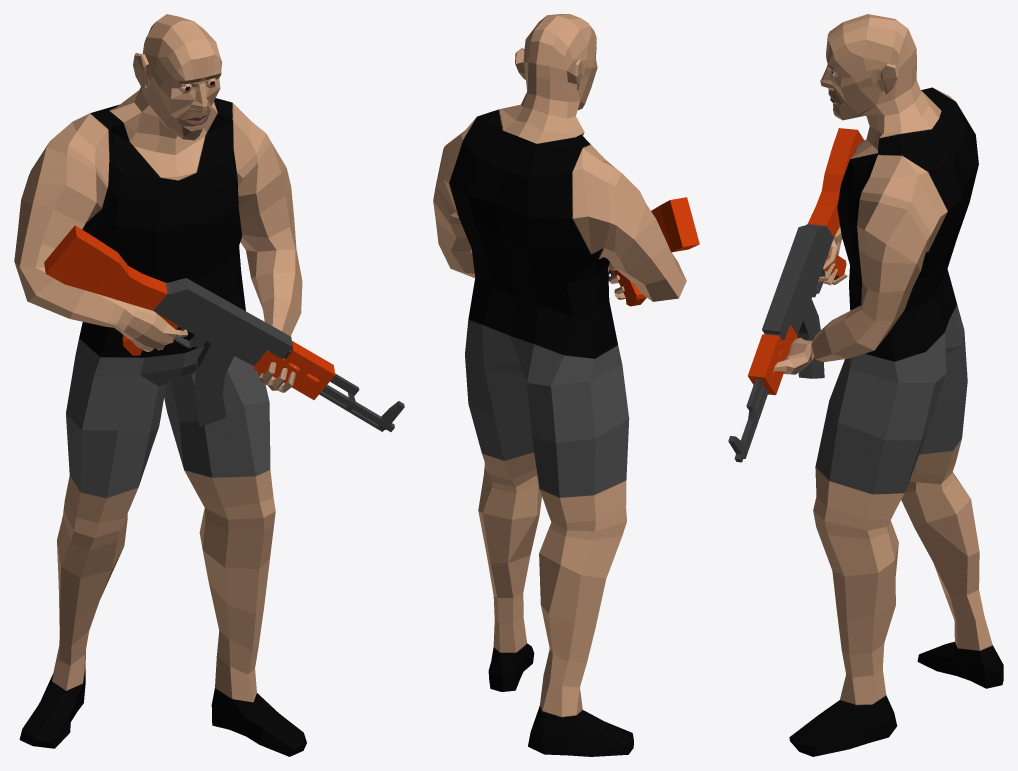
File: PlayerIdle(101).obj
3 renders of one model, left to right at view 1: azimuth 30°, elevation 25°; view 2: azimuth 150°, elevation 25°; view 3: azimuth 270°, elevation 25°, orthographic. The views are drawn at different scales.
Parts seen in each view (by area): view 1: Plane002, Object001; view 2: Plane002, Object001; view 3: Plane002, Object001.
Part boxes in pixels (x1,y1,x2,y2): Plane002: [14, 14, 306, 756]; Object001: [44, 225, 404, 431]; Plane002: [433, 14, 686, 756]; Object001: [608, 197, 699, 306]; Plane002: [773, 14, 1003, 756]; Object001: [728, 128, 864, 462].
Bounding box in the file's own units: 774 × 1804 × 648.
